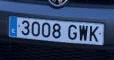0: (42, 22, 51, 38), (31, 21, 40, 36)
3: (21, 19, 30, 36)
8: (52, 23, 61, 38)
G: (67, 24, 77, 40)
K: (89, 25, 99, 42)
W: (79, 24, 88, 42)
